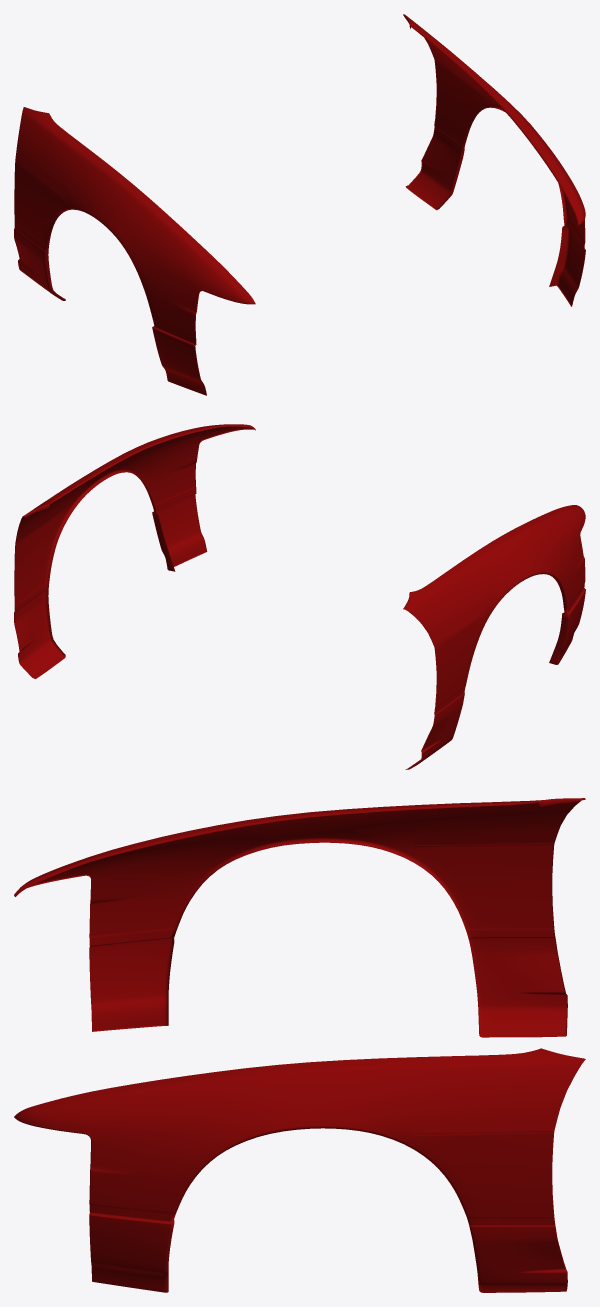
File: frontfenders_oem.glb
The picture shows the model from 3 angles, top to bottom: view 1: azimuth 30°, elevation 25°; view 2: azimuth 150°, elevation 25°; view 3: azimuth 270°, elevation 25°; orthographic projection. The views are drawn at different scales.
Visible parts, largest first — view 1: Fenders; view 2: Fenders; view 3: Fenders.
Part boxes in pixels (x1,y1,x2,y2): Fenders: (14,14,585,395); Fenders: (14,424,585,769); Fenders: (14,798,585,1292).
Bounding box in the file's own units: 1.69 × 0.6539 × 1.41.
